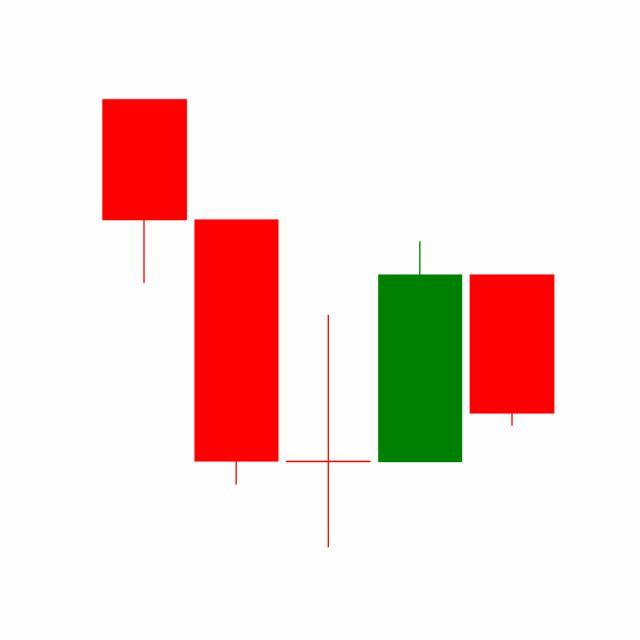Marubozu: (466, 274, 559, 429)
